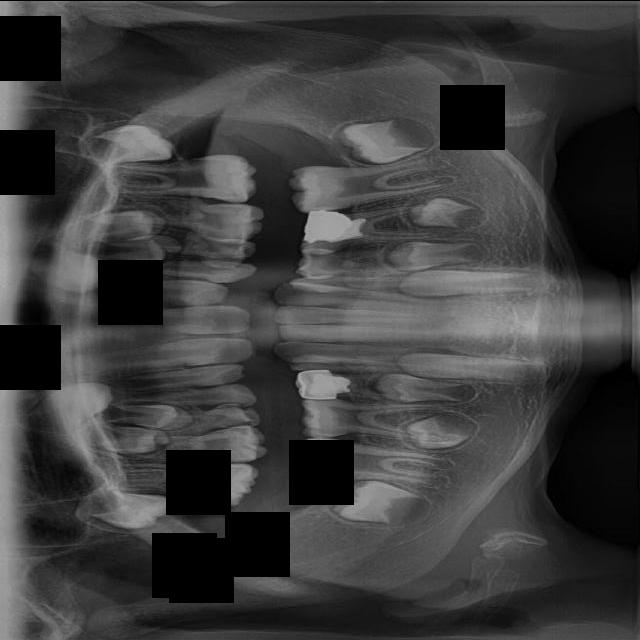NucleOSS Implant: (303, 210, 350, 244)
Sterngold Implant: (204, 252, 240, 266), (217, 238, 249, 250), (219, 417, 256, 427), (220, 425, 251, 435), (216, 403, 249, 410)
Zimmer Implant: (295, 369, 334, 399)
